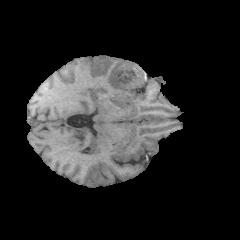glioma: (107, 59, 146, 103)
